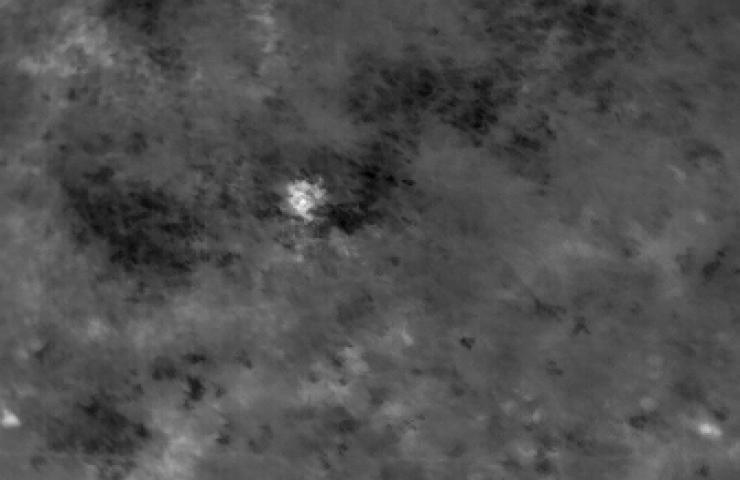landmines: (282, 181, 323, 217)
